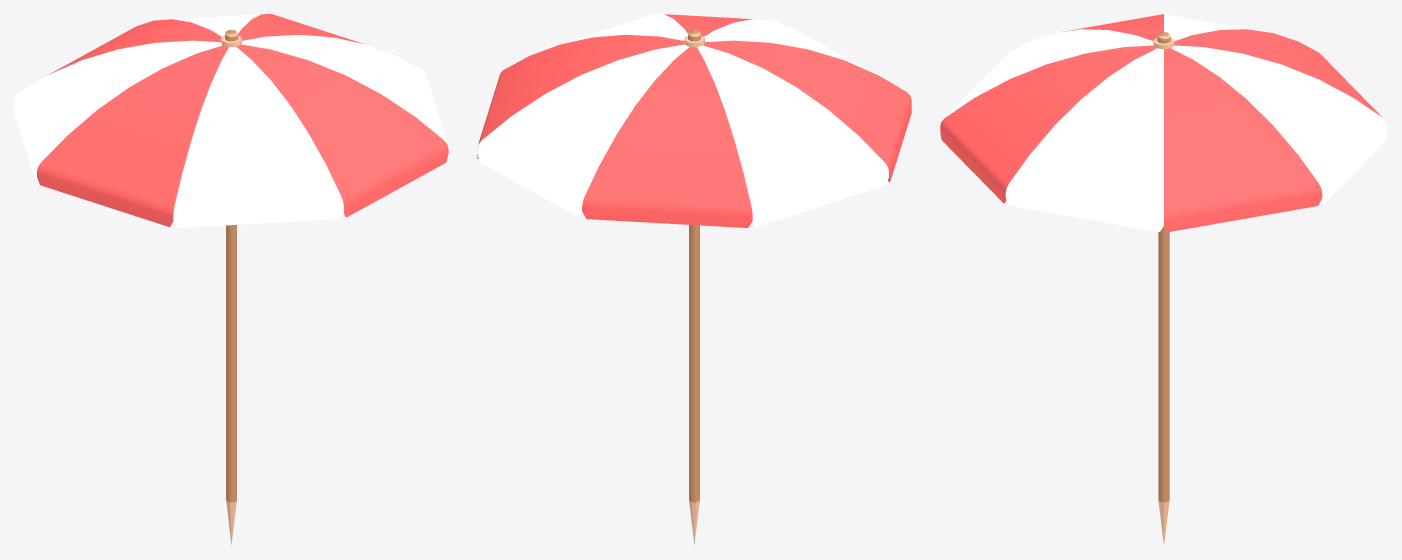
Rendered from Umbrella.fbx.
3 views of the same model, side by side, from view 1: azimuth 30°, elevation 25°; view 2: azimuth 150°, elevation 25°; view 3: azimuth 270°, elevation 25° (orthographic).
Visible parts, largest first — view 1: umbrella; view 2: umbrella; view 3: umbrella.
Boxes of the visible parts, x1,y1,x2,y2 form: umbrella: (14,14,448,545); umbrella: (477,14,911,545); umbrella: (940,14,1387,544).
Size of the model in its own units: 1.19 by 1.5 by 1.19.
